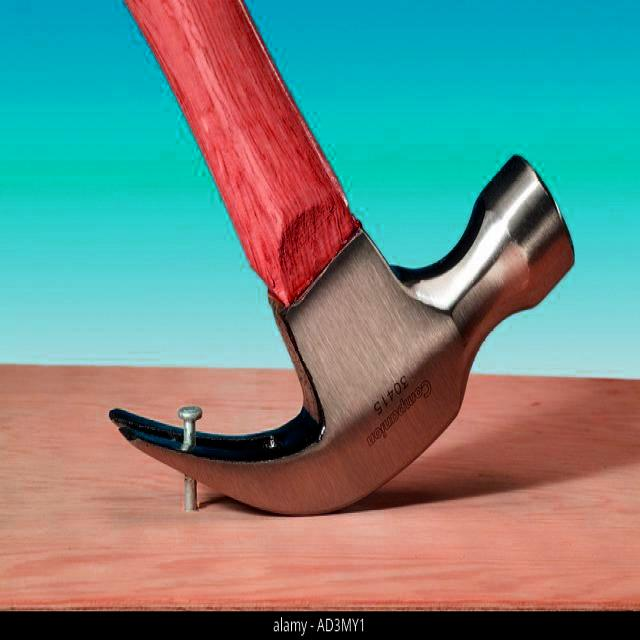hammer: (101, 0, 584, 523)
